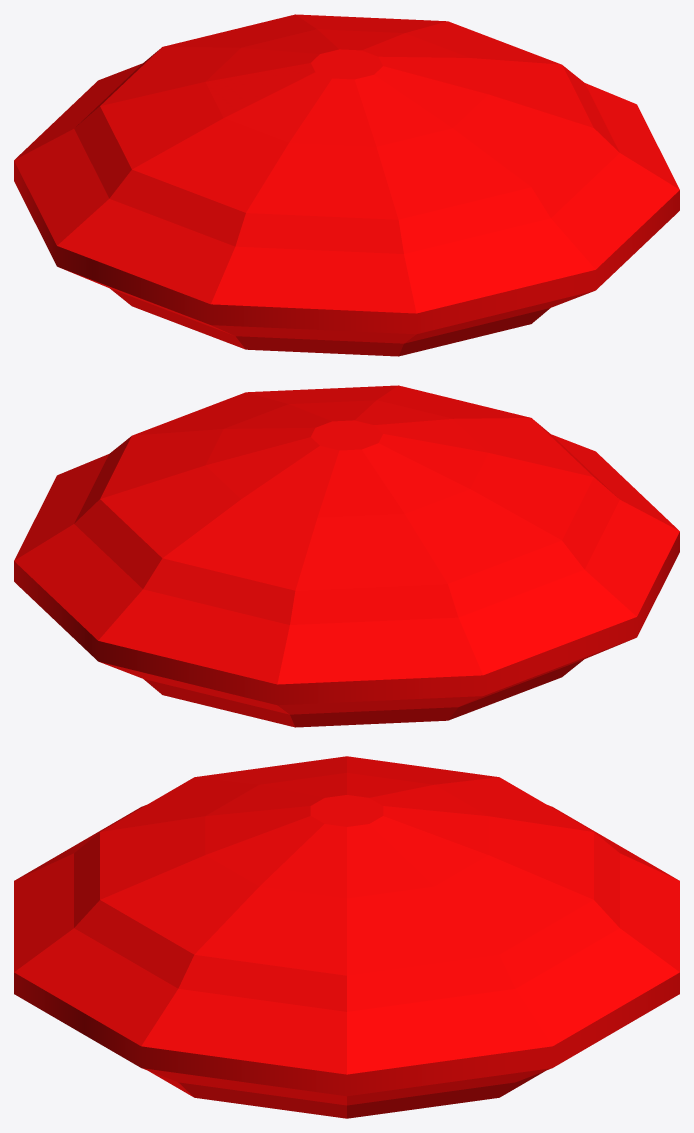
Rendered from ColorChanger.fbx.
3 renders of one model, top to bottom at view 1: azimuth 30°, elevation 25°; view 2: azimuth 150°, elevation 25°; view 3: azimuth 270°, elevation 25°, orthographic. The views are drawn at different scales.
Parts seen in each view (by area): view 1: Cylinder001; view 2: Cylinder001; view 3: Cylinder001.
Part boxes in pixels (box(x1,y1,x2,y2)): Cylinder001: box(14, 14, 679, 356); Cylinder001: box(14, 385, 679, 727); Cylinder001: box(14, 756, 679, 1118).
Size of the model in its own units: 82.03 by 25.6 by 78.01.
